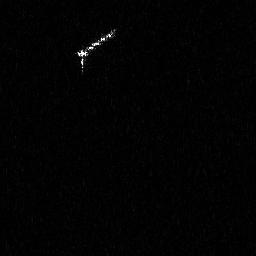ship: (73, 27, 119, 74)
